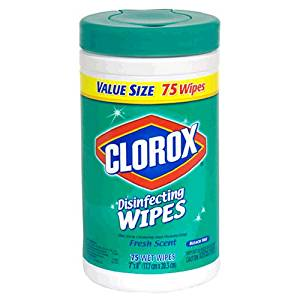Wipes: (70, 6, 230, 295)
